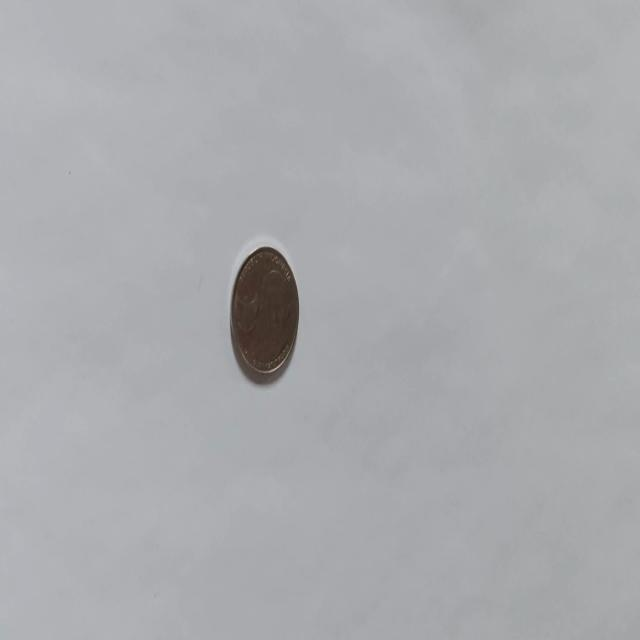seribu rupiah koin: (228, 240, 300, 382)
